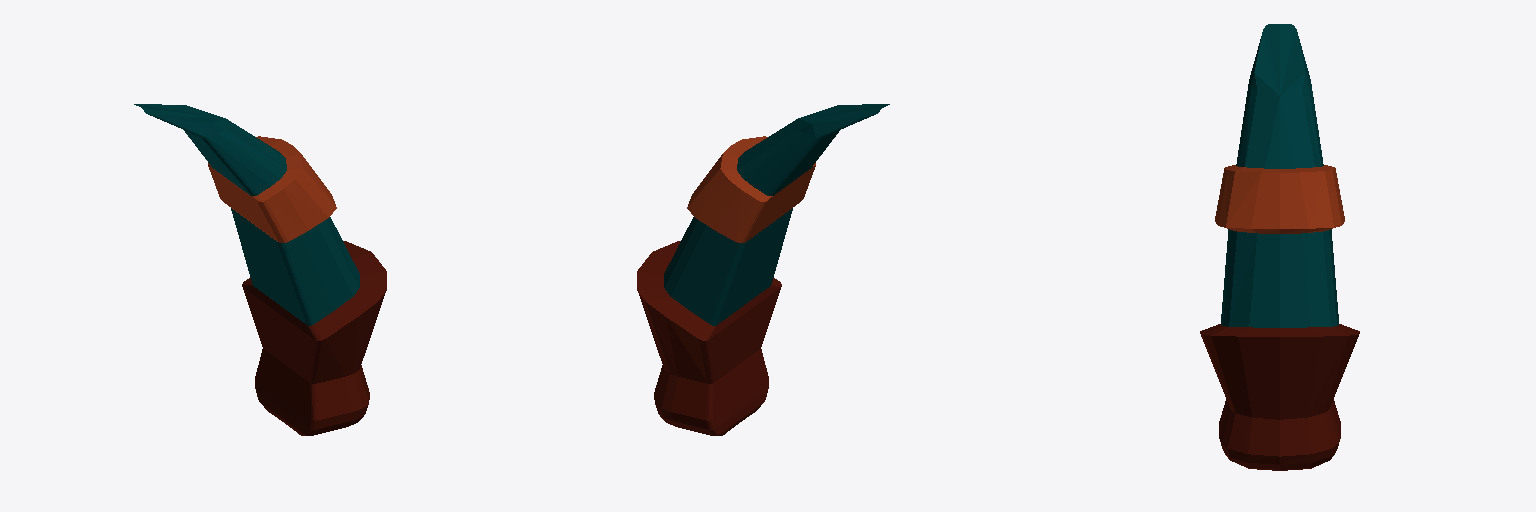
Rendered from character_rogueArmLeft.obj.
3 renders of one model, left to right at view 1: azimuth 30°, elevation 25°; view 2: azimuth 150°, elevation 25°; view 3: azimuth 270°, elevation 25°, orthographic.
Parts seen in each view (by area): view 1: character_rogueArmLeft_Cube.013; view 2: character_rogueArmLeft_Cube.013; view 3: character_rogueArmLeft_Cube.013.
Part boxes in pixels (left/top/right/bottom): character_rogueArmLeft_Cube.013: left=134, top=104, right=386, bottom=435; character_rogueArmLeft_Cube.013: left=637, top=104, right=889, bottom=435; character_rogueArmLeft_Cube.013: left=1200, top=24, right=1359, bottom=470.
Bounding box in the file's own units: 0.3931 × 0.5708 × 0.2343.